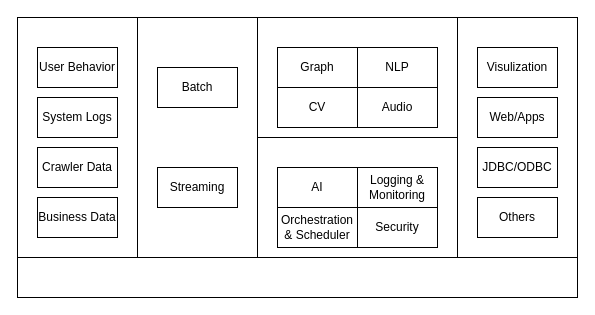
The diagram is 595 pixels wide and 315 high, and some of its shapes have lost their labels. The shapes that lost their labels are listed below. From the top down, each one's box as (x1, y1, x2, y2) in pixels, then its label:
(256, 16, 458, 138): Data Processing
(16, 16, 138, 258): Data Sources
(136, 16, 258, 258): Ingestion Layer
(456, 16, 578, 258): Serving
(256, 136, 458, 258): Functions
(16, 256, 578, 298): Storage Layer
